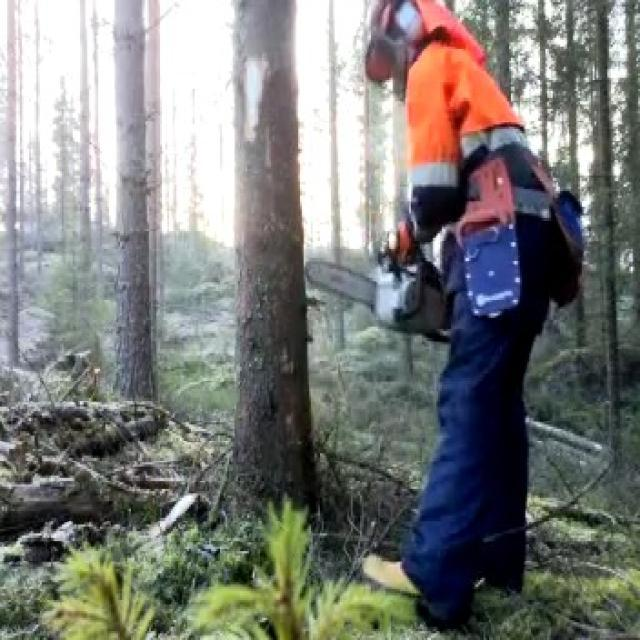Chainsaw: (294, 209, 470, 356)
